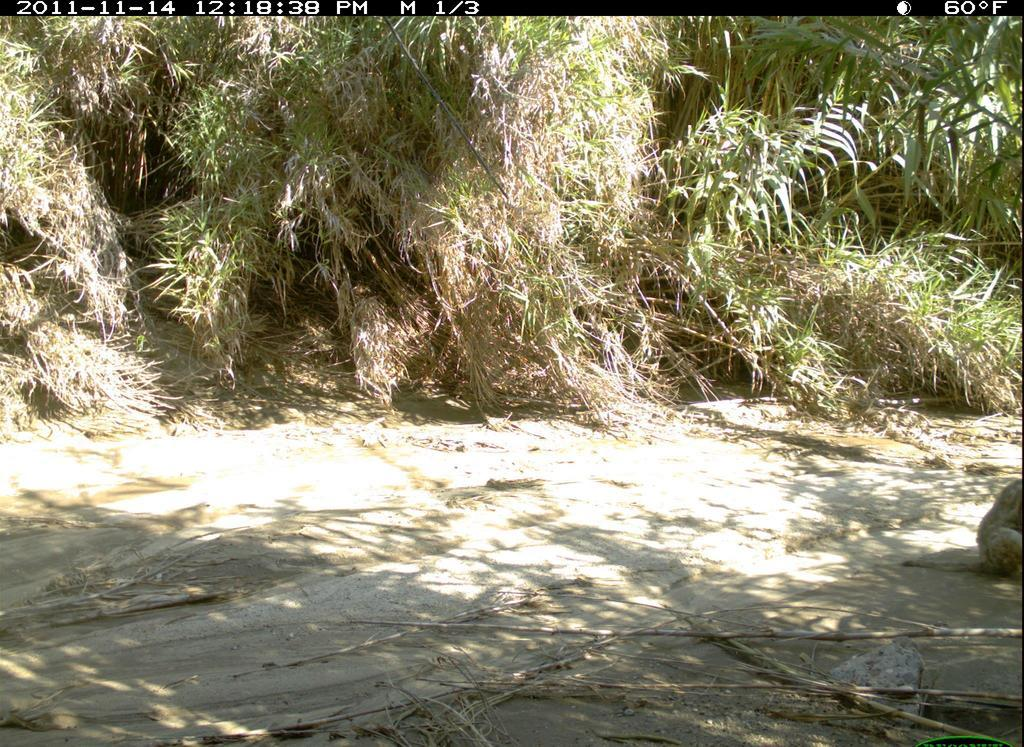coyote: (896, 476, 1024, 586)
